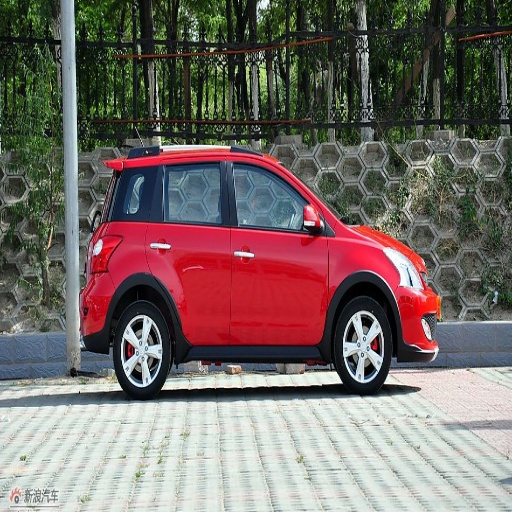back_right_door: (150, 154, 229, 340)
